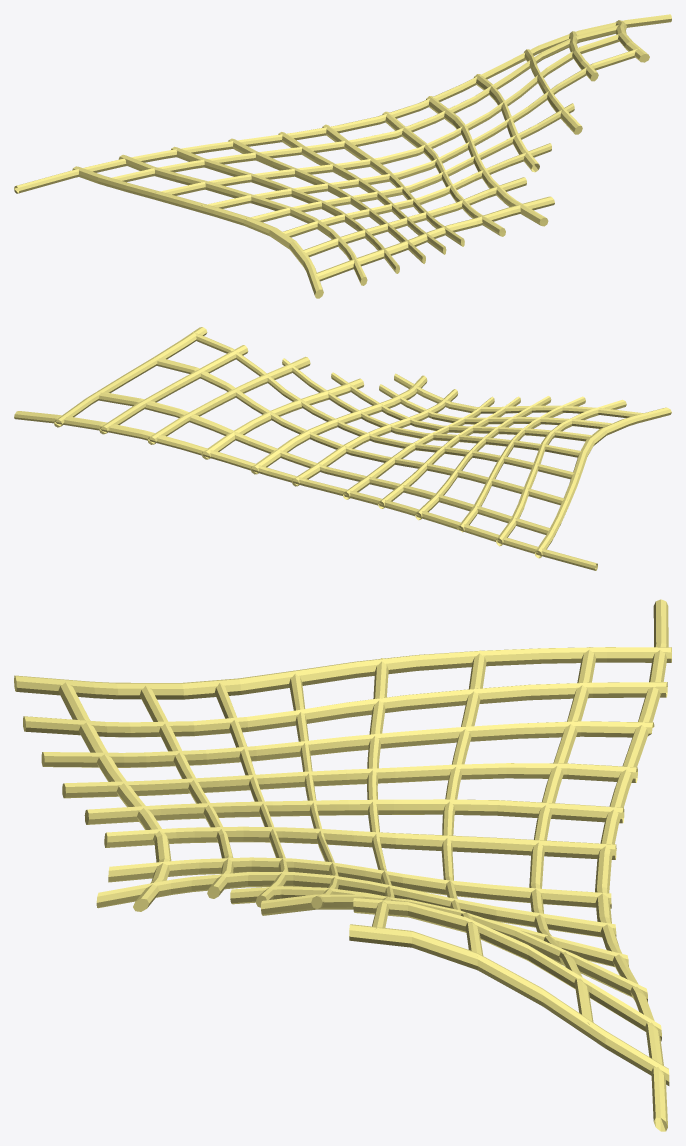
The model's file is Fishnet2.fbx.
3 views of the same model, one above another, from view 1: azimuth 30°, elevation 25°; view 2: azimuth 150°, elevation 25°; view 3: azimuth 270°, elevation 25° (orthographic). The views are drawn at different scales.
Visible parts, largest first — view 1: Fishnet_003; view 2: Fishnet_003; view 3: Fishnet_003.
Part boxes in pixels (<box>): Fishnet_003: <box>14,14,671,298</box>; Fishnet_003: <box>14,327,671,570</box>; Fishnet_003: <box>14,599,671,1131</box>.
Size of the model in its own units: 381 by 43.85 by 196.
